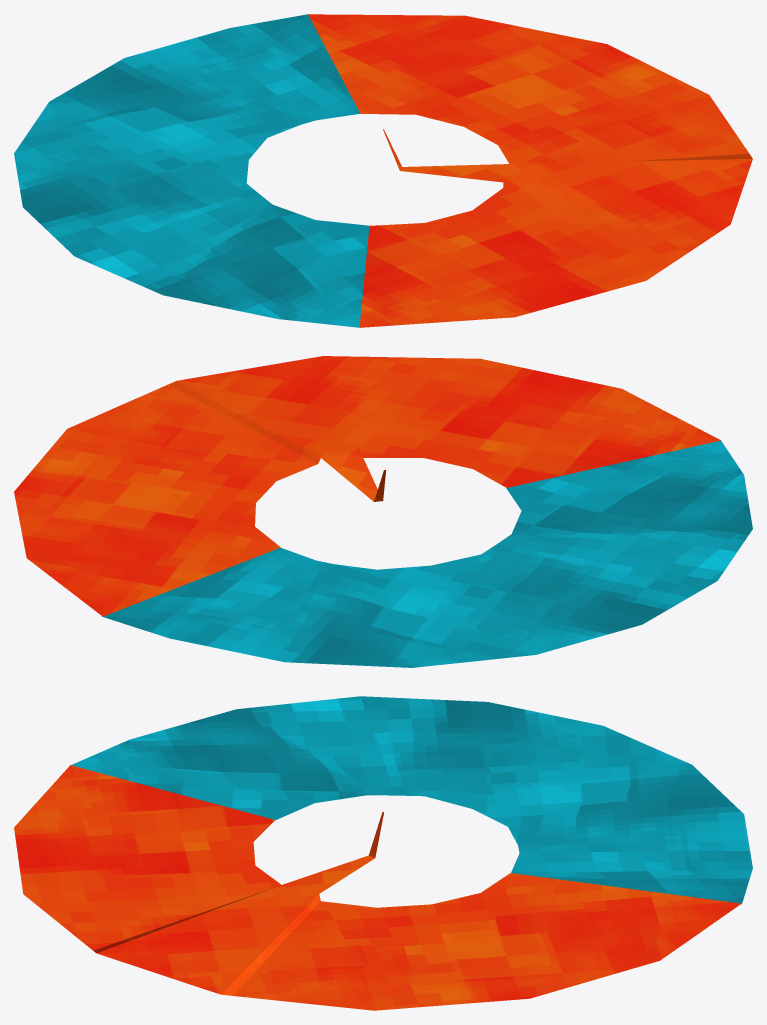
File: Oblivion.fbx
The picture shows the model from 3 angles, top to bottom: view 1: azimuth 30°, elevation 25°; view 2: azimuth 150°, elevation 25°; view 3: azimuth 270°, elevation 25°; orthographic projection.
Parts seen in each view (by area): view 1: Lava, Water; view 2: Lava, Water; view 3: Lava, Water.
Boxes of the visible parts, bbox=[...] form: Lava: bbox=[308, 14, 752, 327]; Water: bbox=[14, 14, 369, 327]; Lava: bbox=[14, 356, 720, 616]; Water: bbox=[101, 440, 752, 667]; Lava: bbox=[14, 765, 740, 1010]; Water: bbox=[71, 696, 752, 904].
Bounding box in the file's own units: 2703 × 165 × 2683.
Materials: 2 (2 with a texture image).
